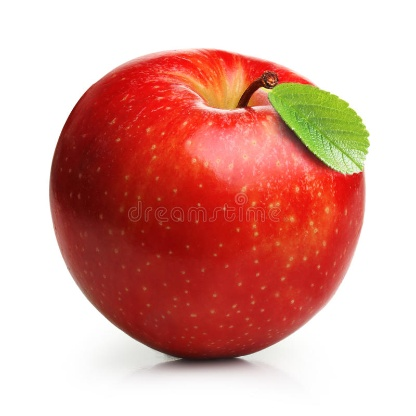tao: (49, 44, 367, 362)
